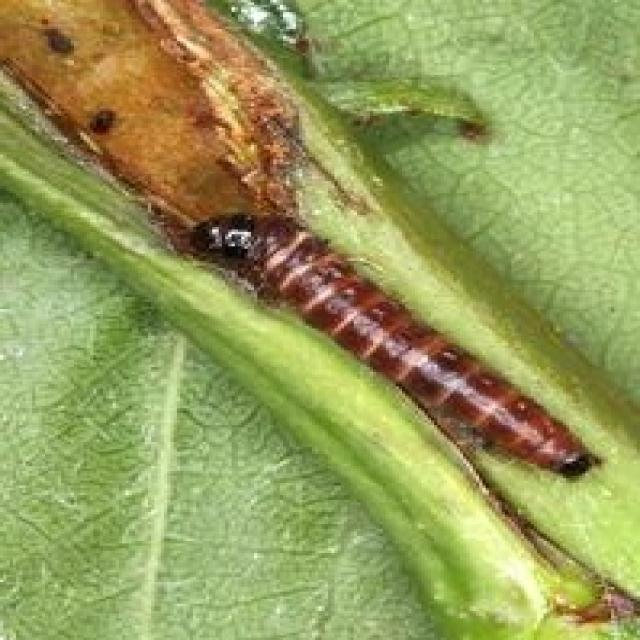peach borer: (188, 208, 606, 490)
